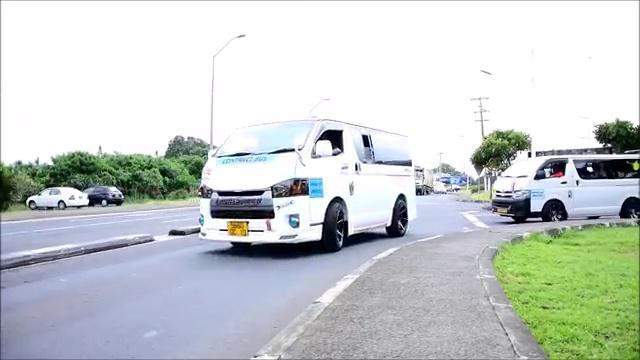van: (199, 119, 418, 254), (484, 151, 639, 225)
